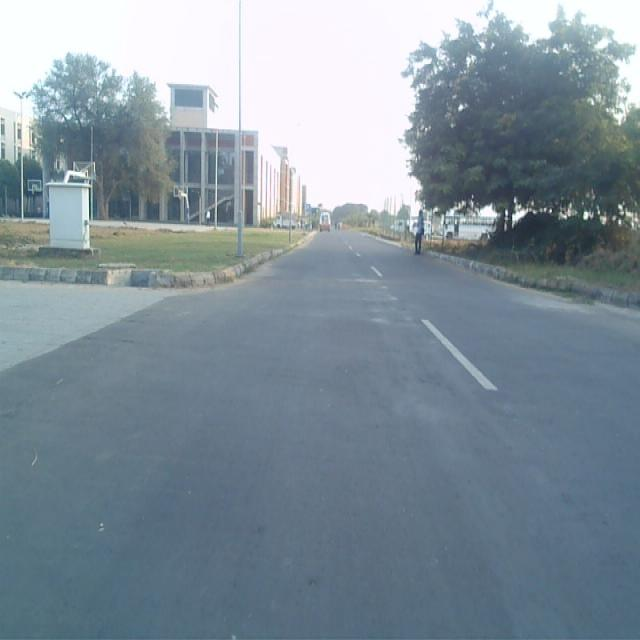lane: (0, 235, 640, 640)
